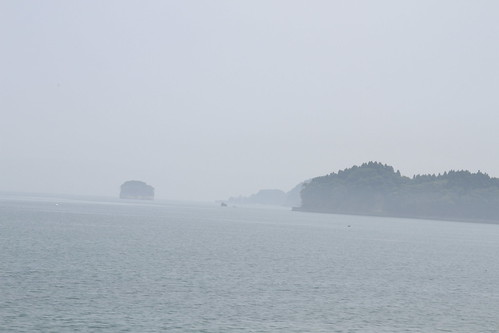sea: (1, 199, 490, 333)
sky: (1, 1, 496, 159)
vegetation: (306, 170, 499, 224)
